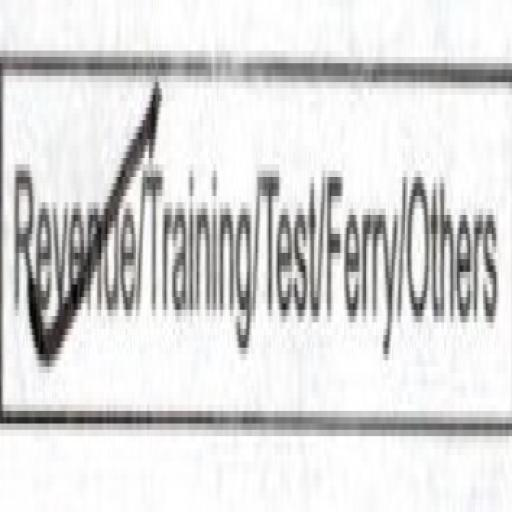check: (0, 0, 140, 488)
